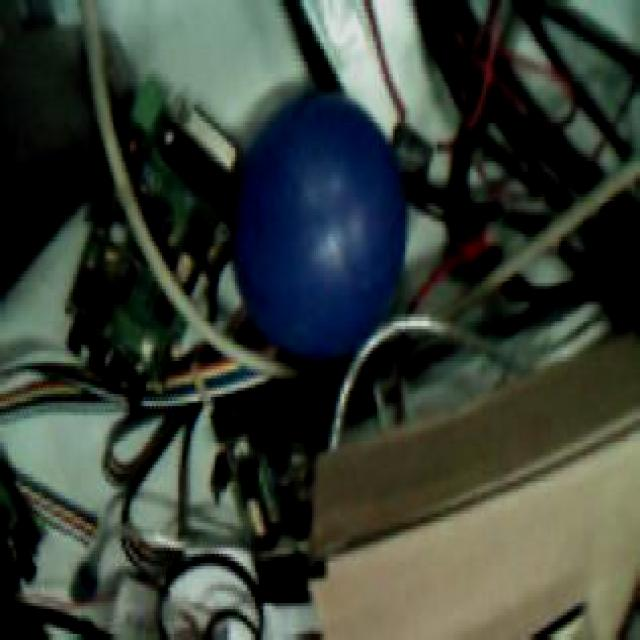BallPurple: (232, 92, 406, 366)
